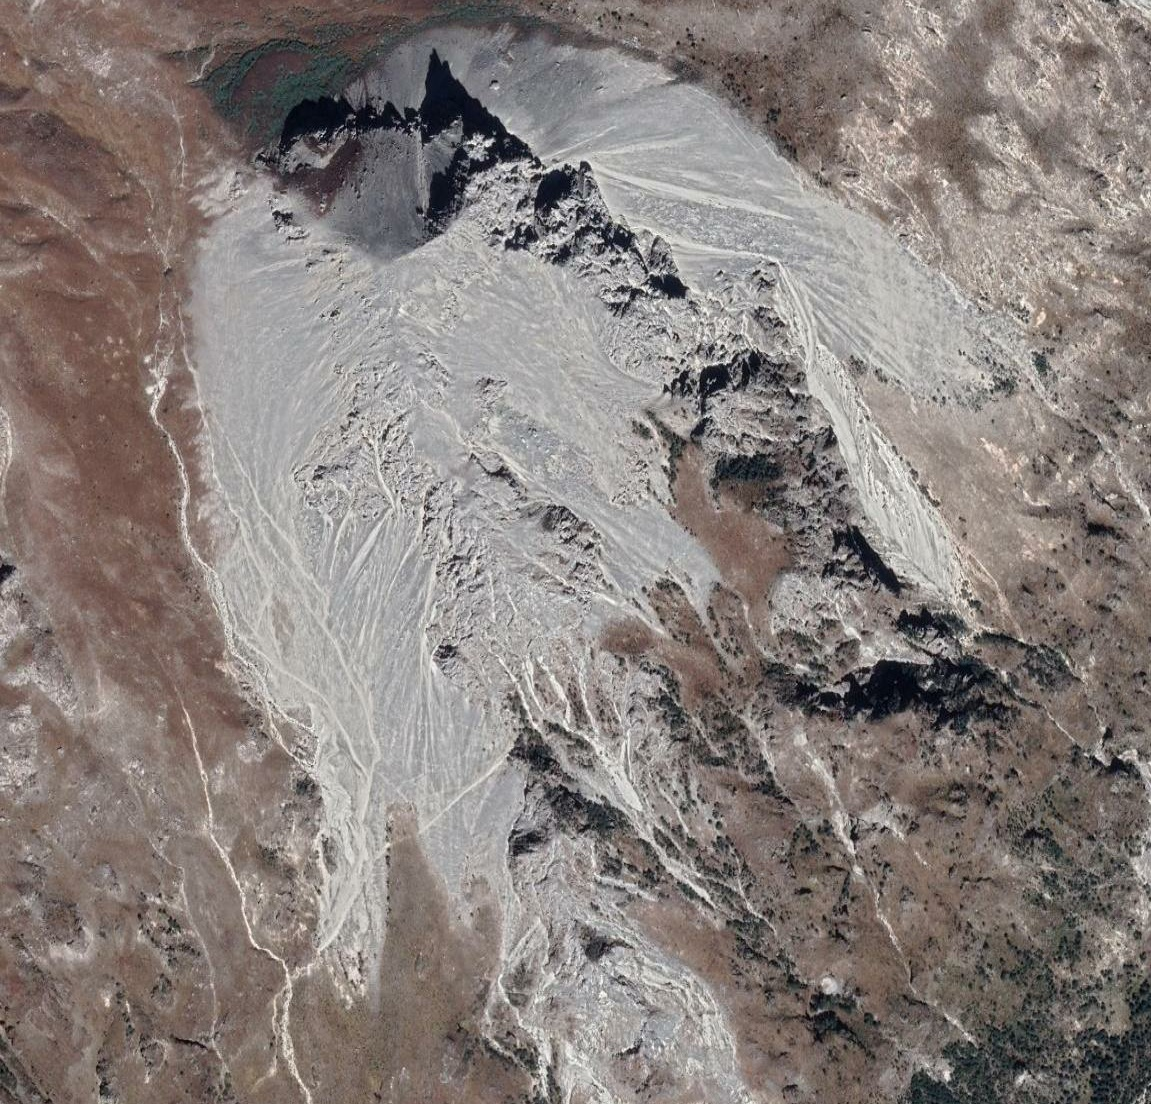slope: (173, 12, 1020, 1103)
